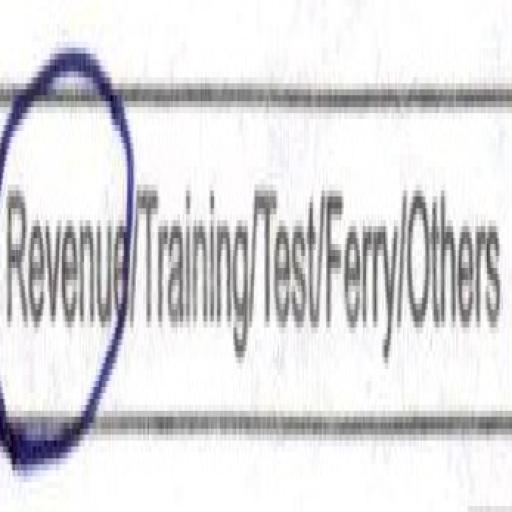check: (0, 6, 135, 500)
